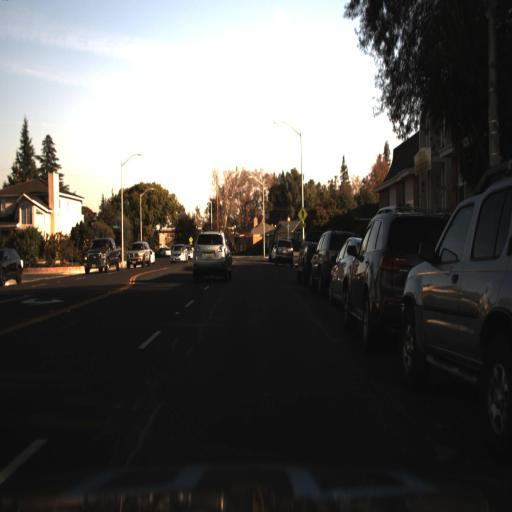car: (397, 177, 512, 445), (343, 201, 453, 340), (346, 201, 398, 358), (193, 230, 231, 279), (83, 236, 120, 279), (333, 230, 351, 312), (0, 245, 24, 288), (126, 237, 151, 269), (275, 239, 297, 268), (169, 242, 189, 265)
